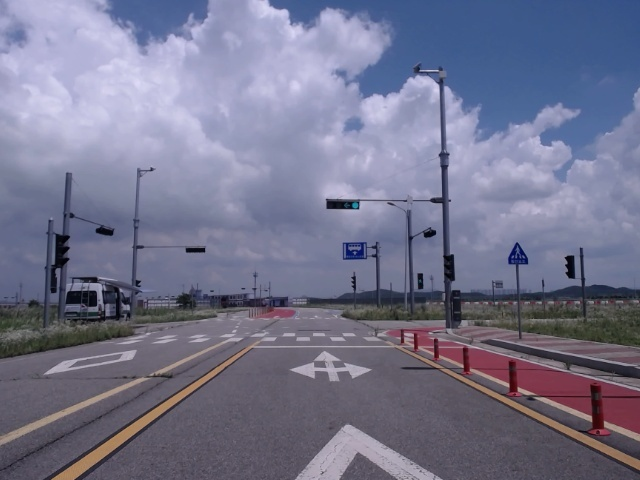all_green_4: (324, 197, 361, 209)
